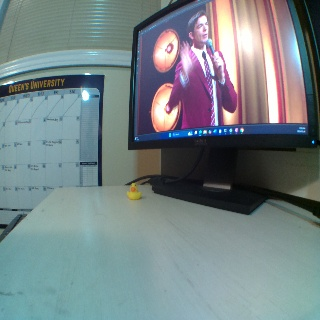duck_regular: (126, 181, 141, 200)
